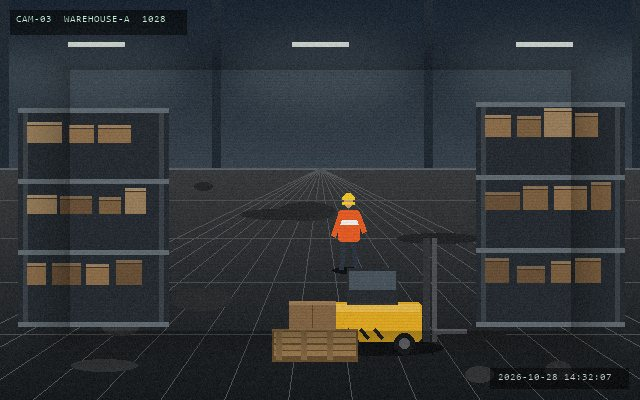forklift: (324, 236, 469, 355)
pallet: (270, 327, 359, 363)
person: (332, 192, 366, 272)
shelf: (476, 102, 624, 322), (18, 108, 168, 322)
